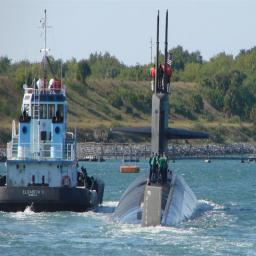submarine: (114, 91, 204, 228)
